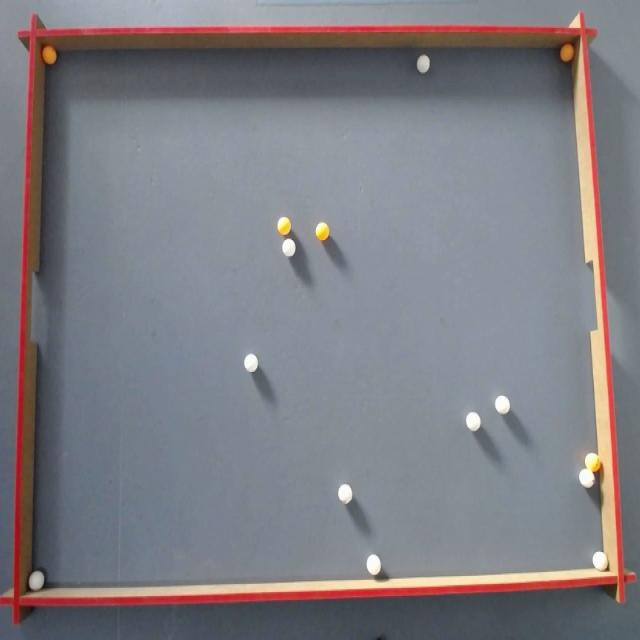orange_ball: (585, 452, 600, 472), (42, 45, 56, 65), (560, 44, 574, 62), (315, 222, 329, 240), (278, 217, 290, 234)
white_ball: (28, 570, 45, 591), (366, 554, 381, 575), (593, 551, 608, 571), (579, 468, 594, 488), (494, 396, 510, 414), (466, 412, 481, 431), (338, 484, 352, 504), (244, 353, 258, 372), (282, 238, 296, 256), (416, 55, 429, 73)
